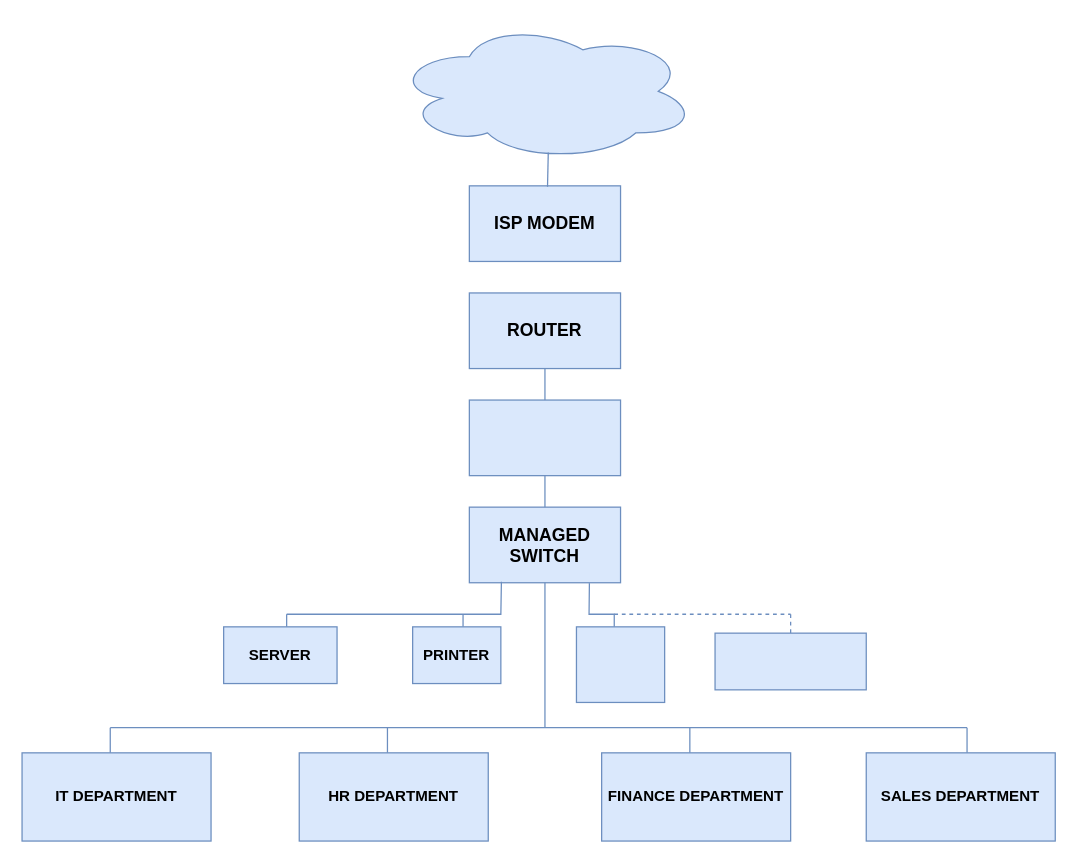
The diagram is 1077 pixels wide and 863 high, and some of its shapes have lost their labels. The shapes that lost their labels are listed below. From the top down, each one's box as (x1, y1, x2, y2) in pixels, then its label:
(392, 21, 696, 161): INTERNET
(468, 399, 621, 476): FIREWALL
(575, 626, 665, 702): NAS STORAGE
(714, 632, 866, 690): WIRELESS ACCESS POINTS (3)
